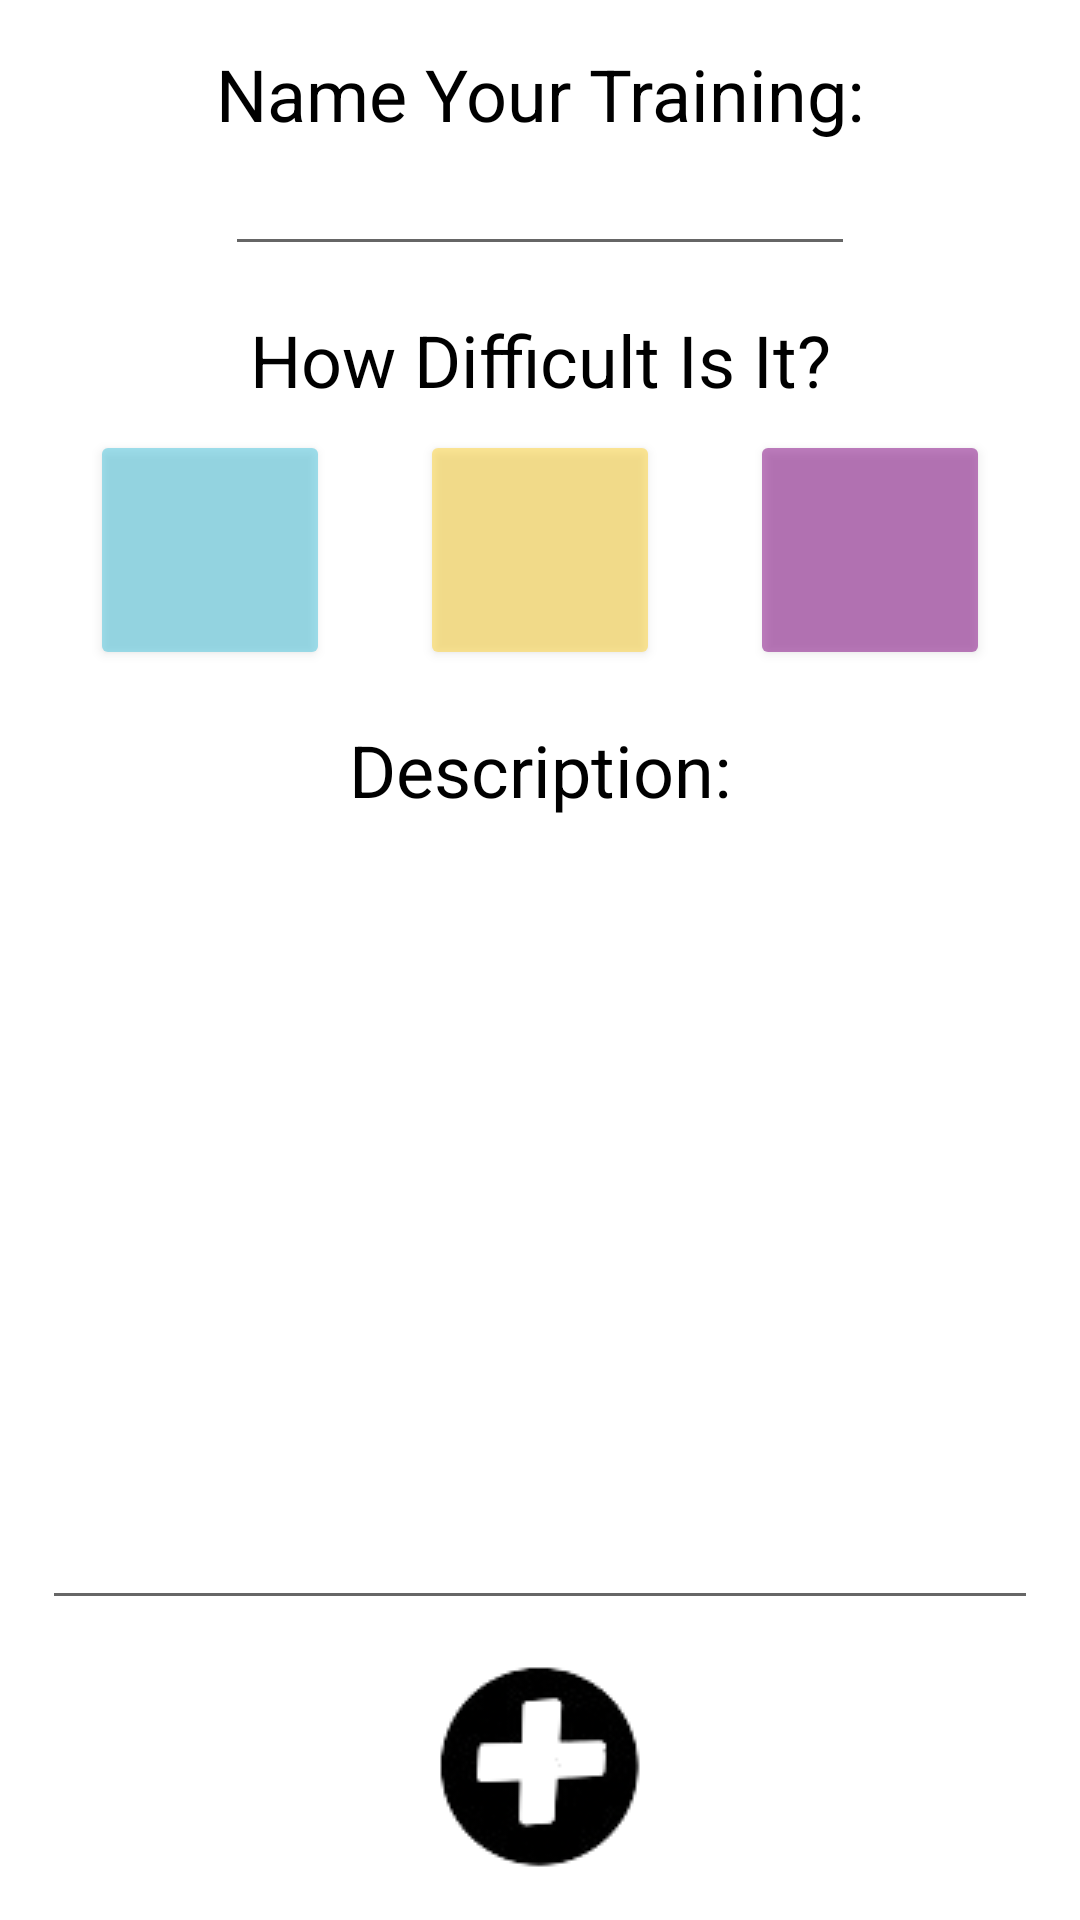

Where icons sit on this 1080x1920 app screen, as (x1, y1, x2, y2):
add: (440, 1667, 640, 1867)
